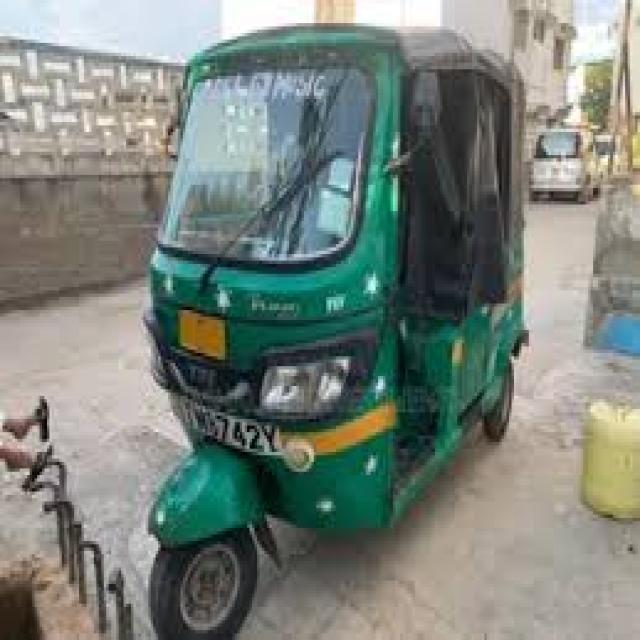tuktuk: (69, 0, 583, 640)
